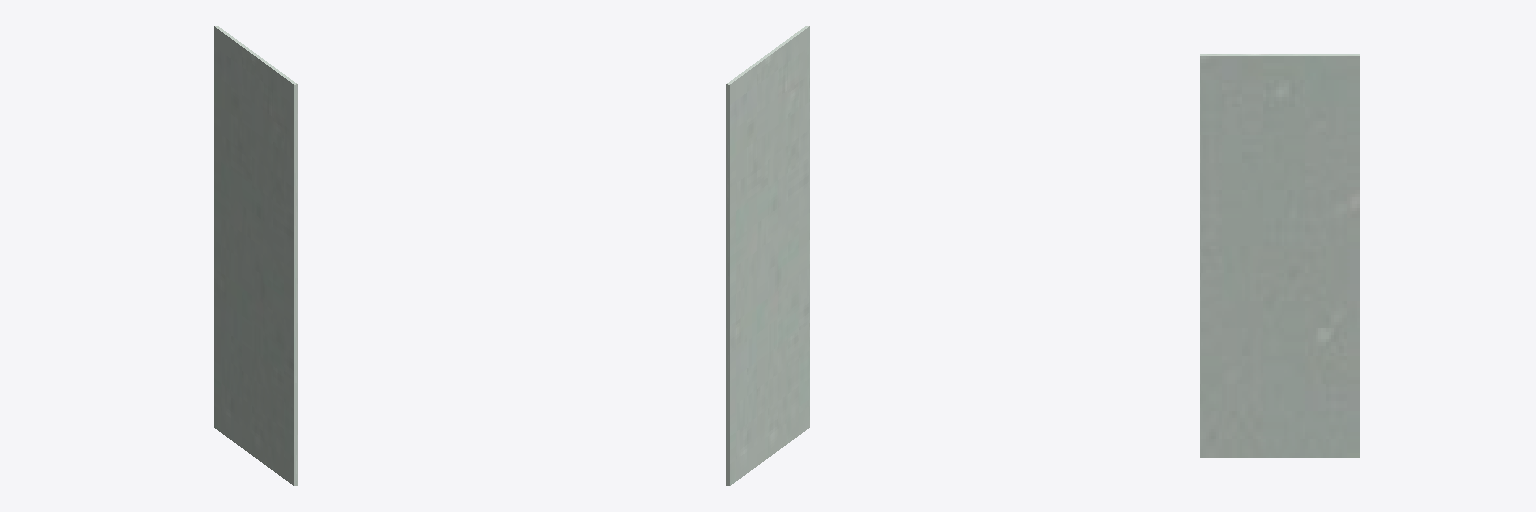
3 views of the same model, side by side, from view 1: azimuth 30°, elevation 25°; view 2: azimuth 150°, elevation 25°; view 3: azimuth 270°, elevation 25° (orthographic).
Parts seen in each view (by area): view 1: Doorup:pCube14; view 2: Doorup:pCube14; view 3: Doorup:pCube14.
Boxes of the visible parts, box(x1,y1,x2,y2) form: Doorup:pCube14: box(214, 26, 297, 485); Doorup:pCube14: box(726, 26, 809, 485); Doorup:pCube14: box(1200, 54, 1359, 457).
Size of the model in its own units: 0.3211 by 37.38 by 13.49.
1 materials, 1 textured.